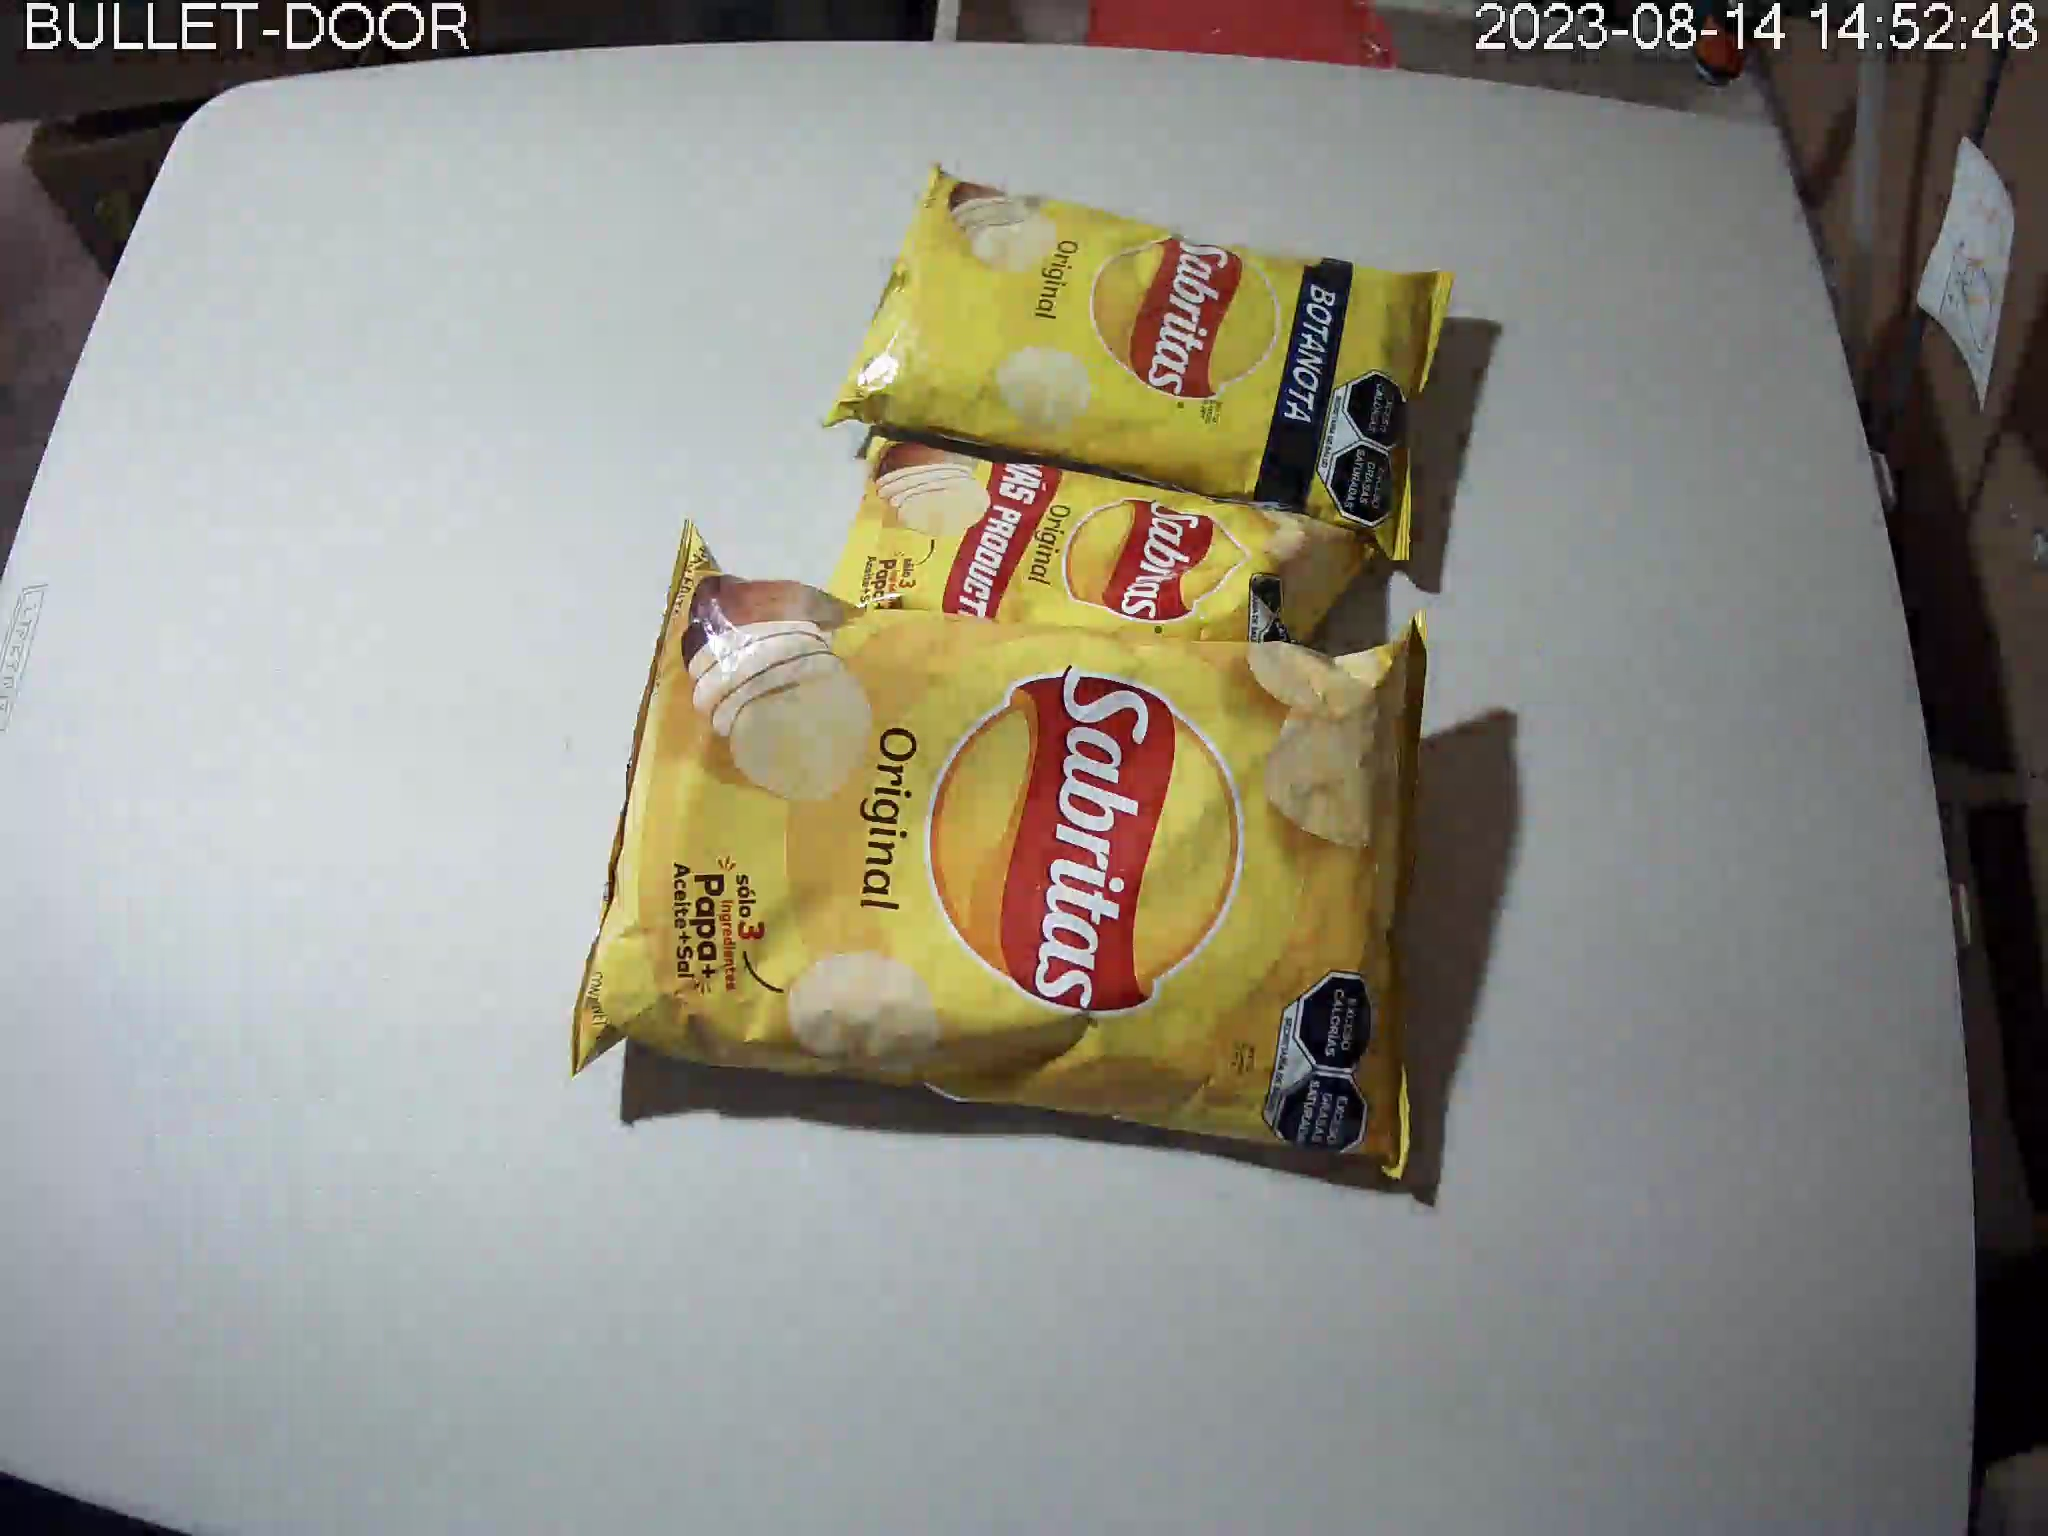Sabritas_160_F: (571, 518, 1430, 1186)
Sabritas_45_F: (816, 423, 1379, 665)
Sabritas_64_F: (819, 161, 1459, 563)
